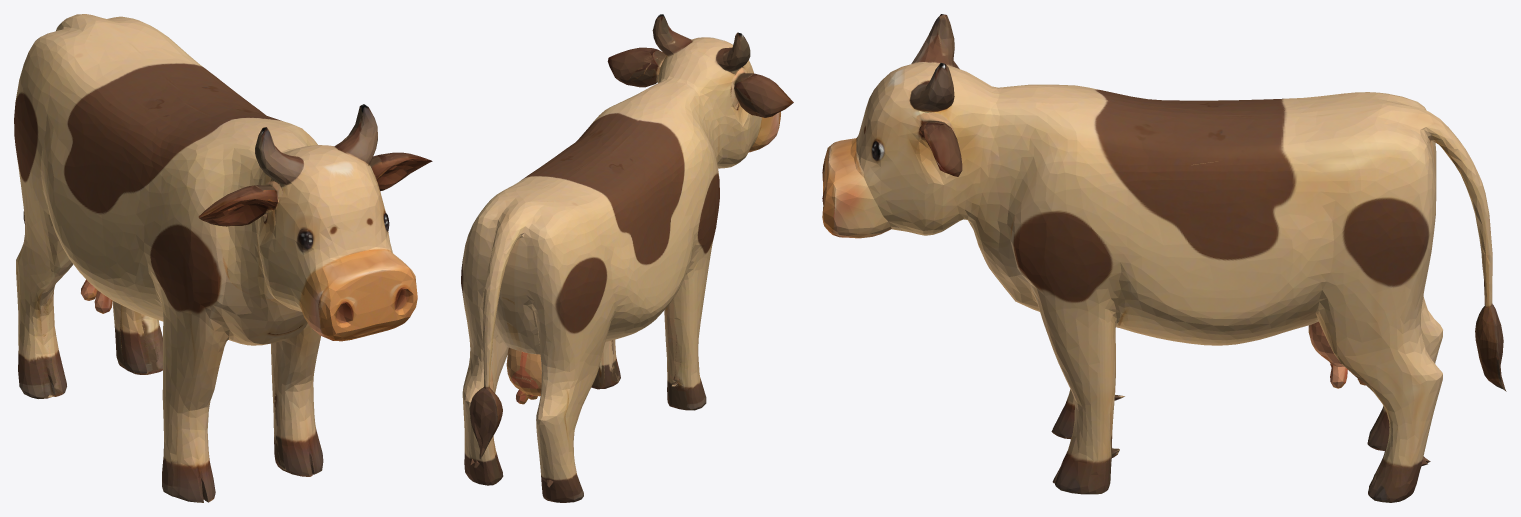
The model's file is Cow_0422082433_texture.fbx.
The picture shows the model from 3 angles, left to right: view 1: azimuth 30°, elevation 25°; view 2: azimuth 150°, elevation 25°; view 3: azimuth 270°, elevation 25°; orthographic projection. The views are drawn at different scales.
Visible parts, largest first — view 1: temp; view 2: temp; view 3: temp.
Boxes of the visible parts, x1,y1,x2,y2 form: temp: (14, 14, 432, 502); temp: (461, 14, 793, 502); temp: (822, 14, 1506, 502).
Bounding box in the file's own units: 79.31 × 137 × 198.
1 material, 1 textured.
